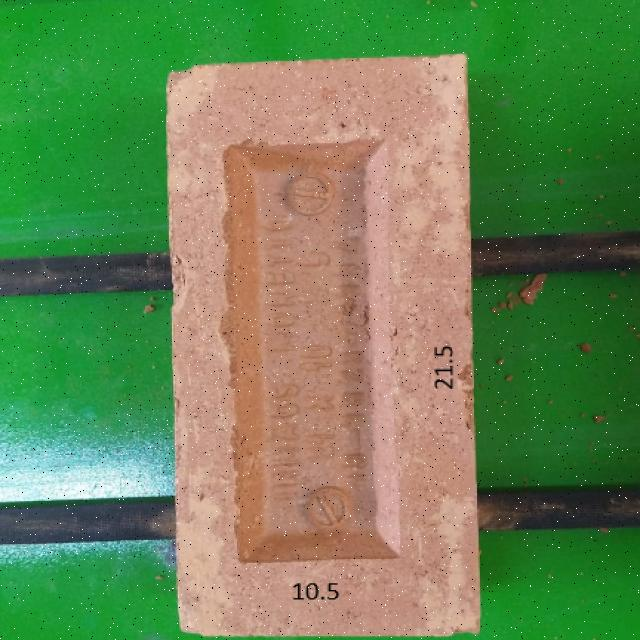bricks: (155, 52, 483, 640)
